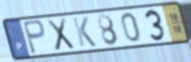0: (120, 11, 144, 44)
3: (145, 8, 166, 43)
8: (97, 14, 120, 47)
K: (71, 16, 99, 49)
P: (21, 19, 47, 56)
X: (45, 17, 77, 53)
